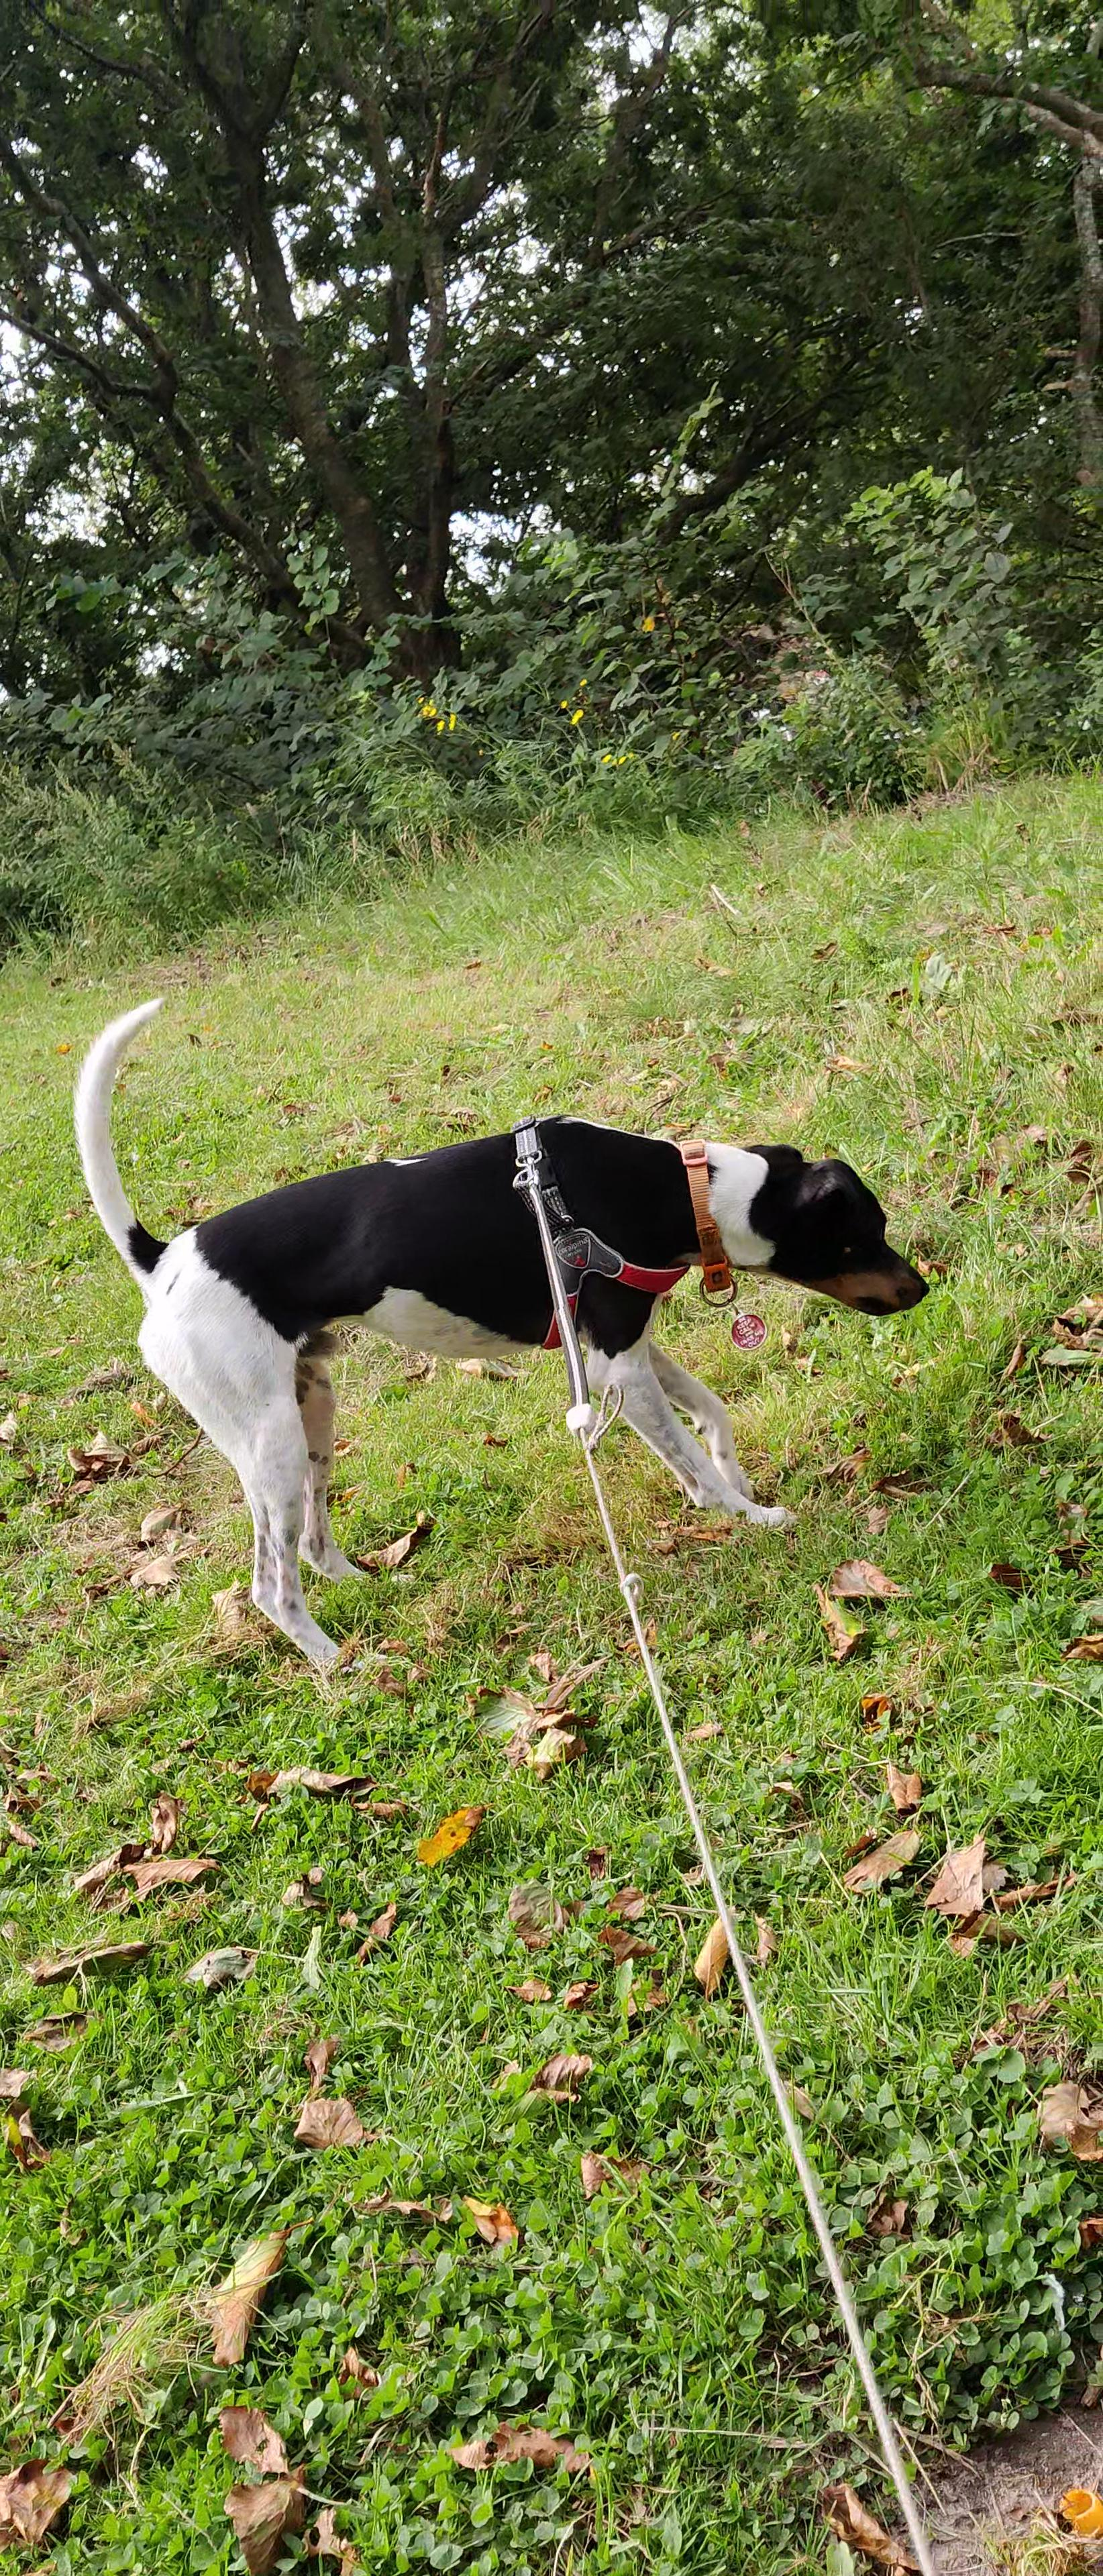Dog: (64, 987, 935, 1690)
